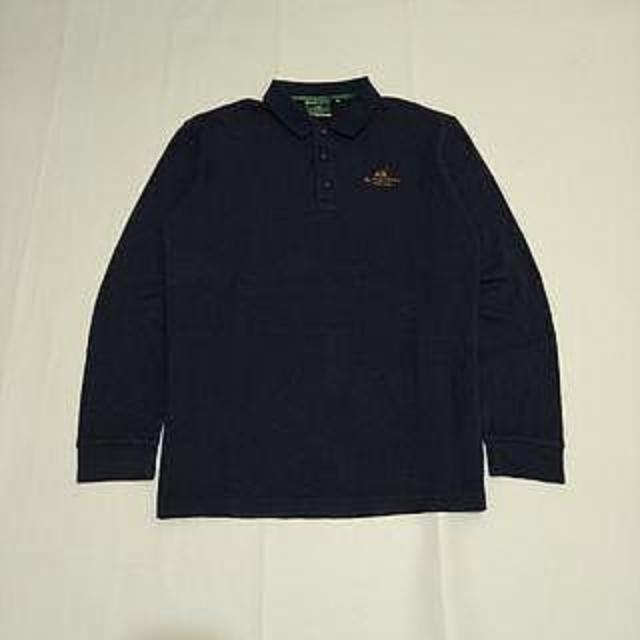SHIRT: (50, 64, 597, 530)
